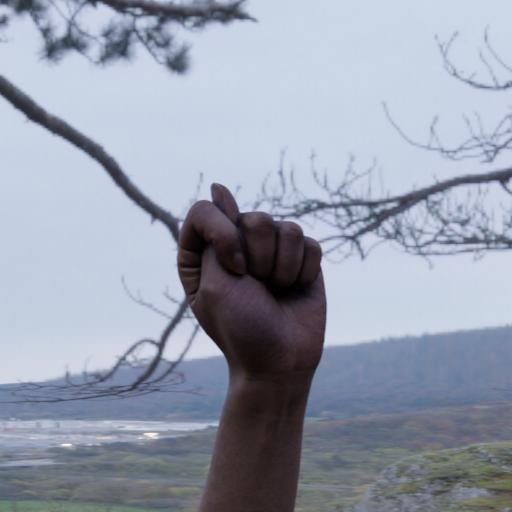T: (166, 179, 338, 388)
